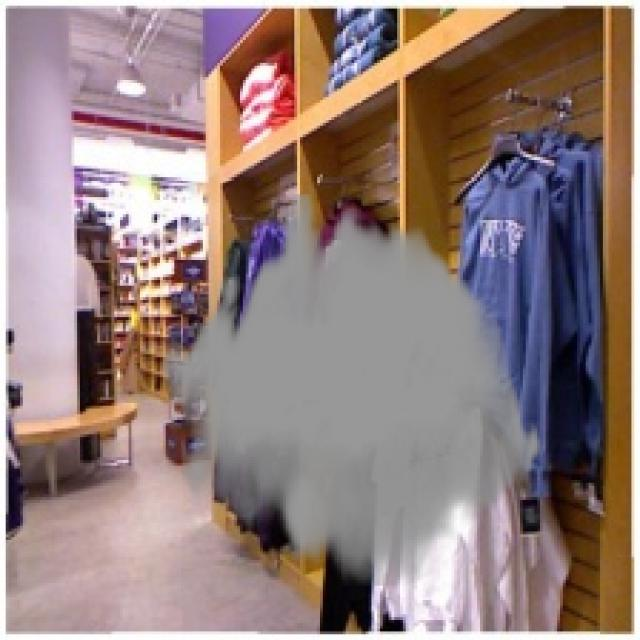smoke: (160, 194, 543, 586)
